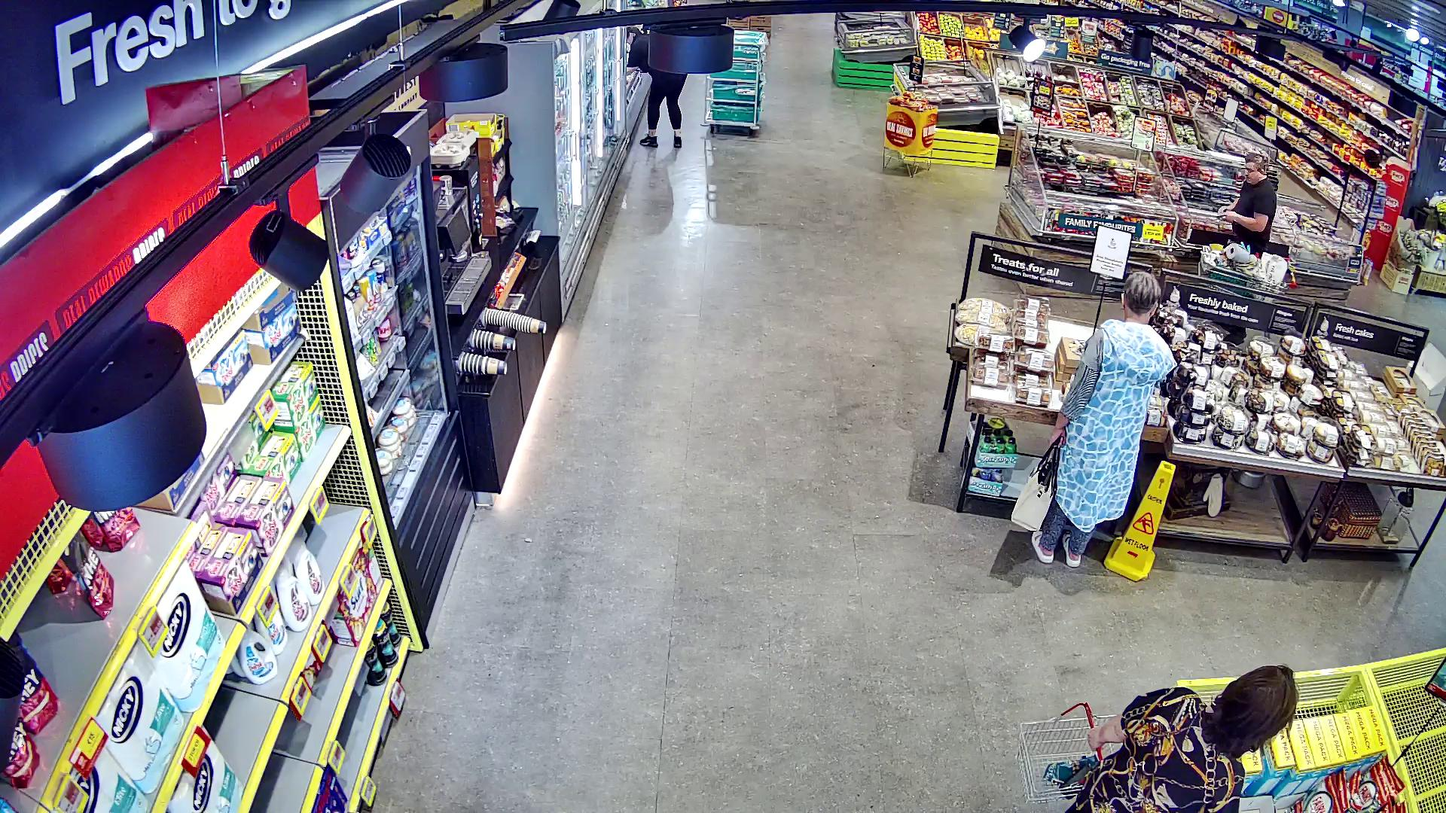backpack-or-handbag: (1011, 440, 1059, 533)
filled-basket: (1018, 701, 1124, 804)
person: (1032, 271, 1177, 566), (1063, 664, 1298, 813)
person-with-backpack-handbag: (1011, 270, 1177, 566)
person-with-filled-basket-trolly: (1019, 662, 1297, 813)
